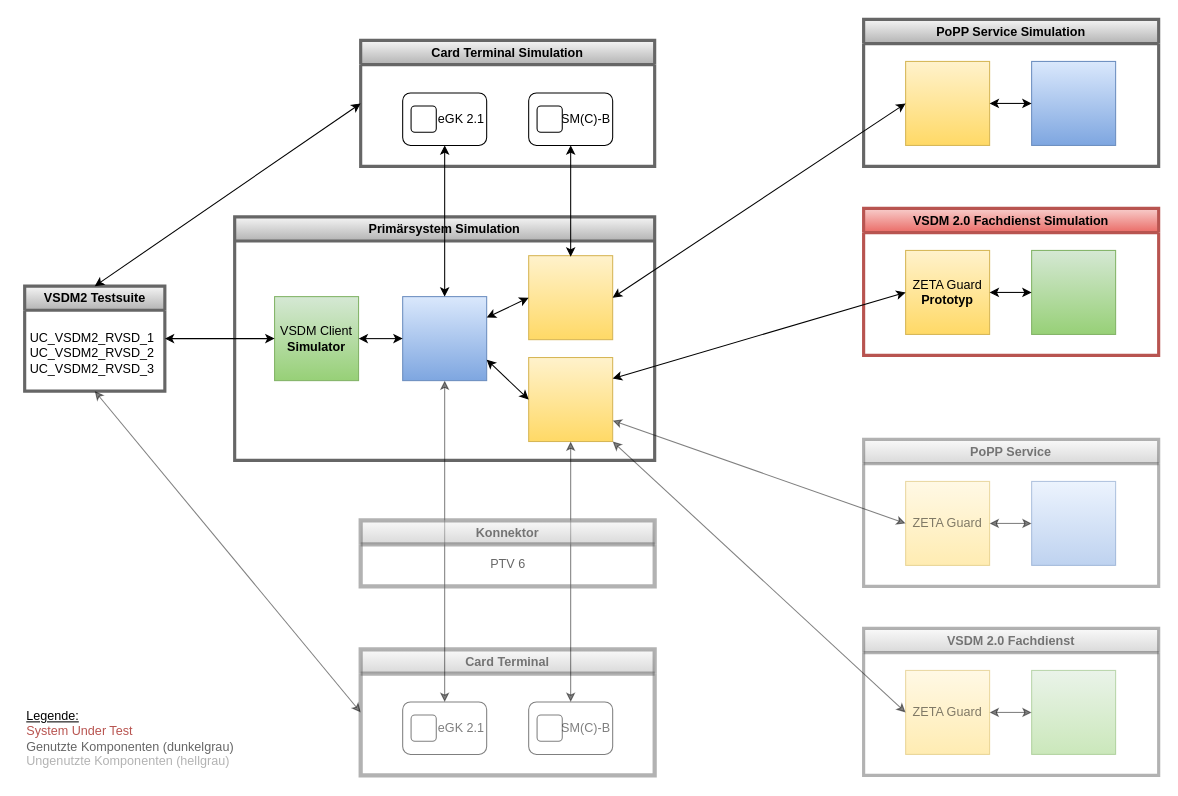
Image size: 1178x796. Some labels were removed from this diagram. The shapes that lost their labels are listed below. From the top down, each one's centre as x and y in pixels, then its label:
the point at 947,102: ZETA Guard MOCK
the point at 1073,102: PoPP Ressource Server MOCK
the point at 570,297: ZETA Client Simulator
the point at 1073,291: VSDM Ressource Server Simulator
the point at 444,338: PoPP Client Simulator
the point at 570,399: ZETA Client Prototyp
the point at 1073,522: PoPP Ressource Server
the point at 1073,711: VSDM Ressource Server
